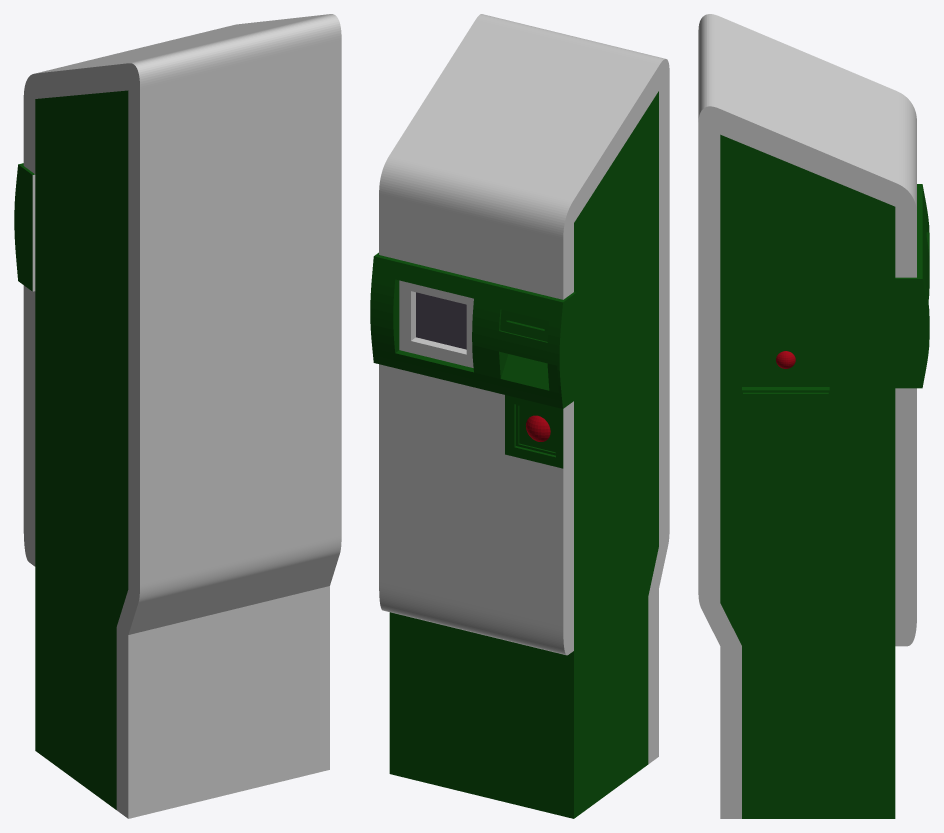
The model's file is chongd.fbx.
3 views of the same model, side by side, from view 1: azimuth 30°, elevation 25°; view 2: azimuth 150°, elevation 25°; view 3: azimuth 270°, elevation 25° (orthographic). The views are drawn at different scales.
Parts seen in each view (by area): view 1: 立方体.001, 立方体, 立方体.002; view 2: 立方体.001, 立方体, 立方体.002, 立方体.006, 立方体.004, 立方体.005; view 3: 立方体, 立方体.001, 立方体.002.
Boxes of the visible parts, x1=… form: 立方体.001: x1=23, y1=14, x2=341, y2=818; 立方体: x1=35, y1=90, x2=128, y2=809; 立方体.002: x1=14, y1=163, x2=34, y2=291; 立方体.001: x1=379, y1=14, x2=669, y2=764; 立方体: x1=389, y1=91, x2=658, y2=818; 立方体.002: x1=370, y1=252, x2=576, y2=408; 立方体.006: x1=505, y1=395, x2=563, y2=468; 立方体.004: x1=399, y1=280, x2=473, y2=367; 立方体.005: x1=416, y1=292, x2=466, y2=349; 立方体: x1=720, y1=134, x2=895, y2=818; 立方体.001: x1=698, y1=14, x2=916, y2=818; 立方体.002: x1=895, y1=184, x2=929, y2=388.
Bounding box in the file's own units: 200 × 678 × 199.
